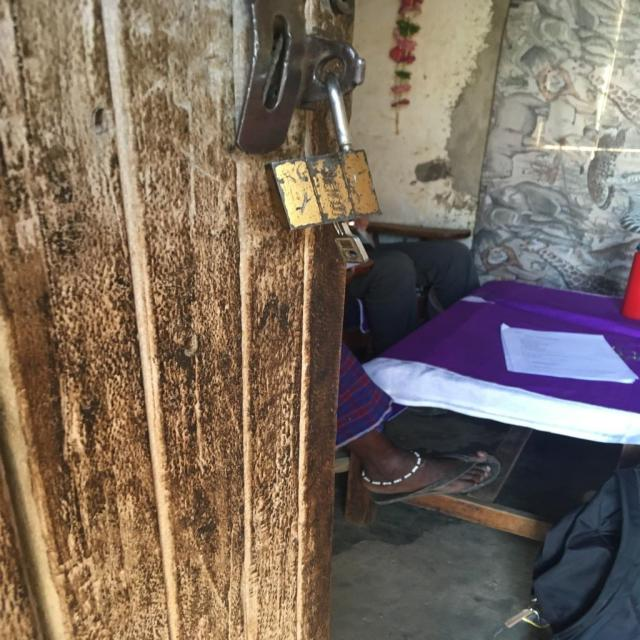Frontdoor keys: (322, 214, 382, 278)
